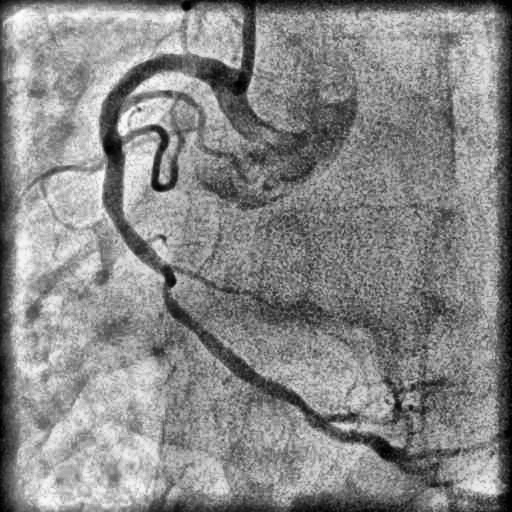pborca: (322, 407, 404, 426)
pda: (315, 418, 407, 463)
rca: (100, 53, 320, 425)
